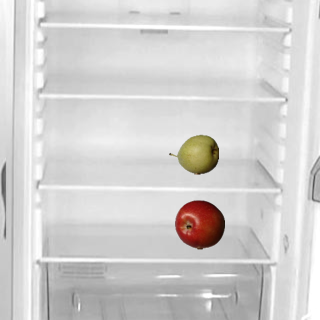Apple Braeburn: (174, 199, 224, 249)
Pear: (168, 129, 218, 179)
